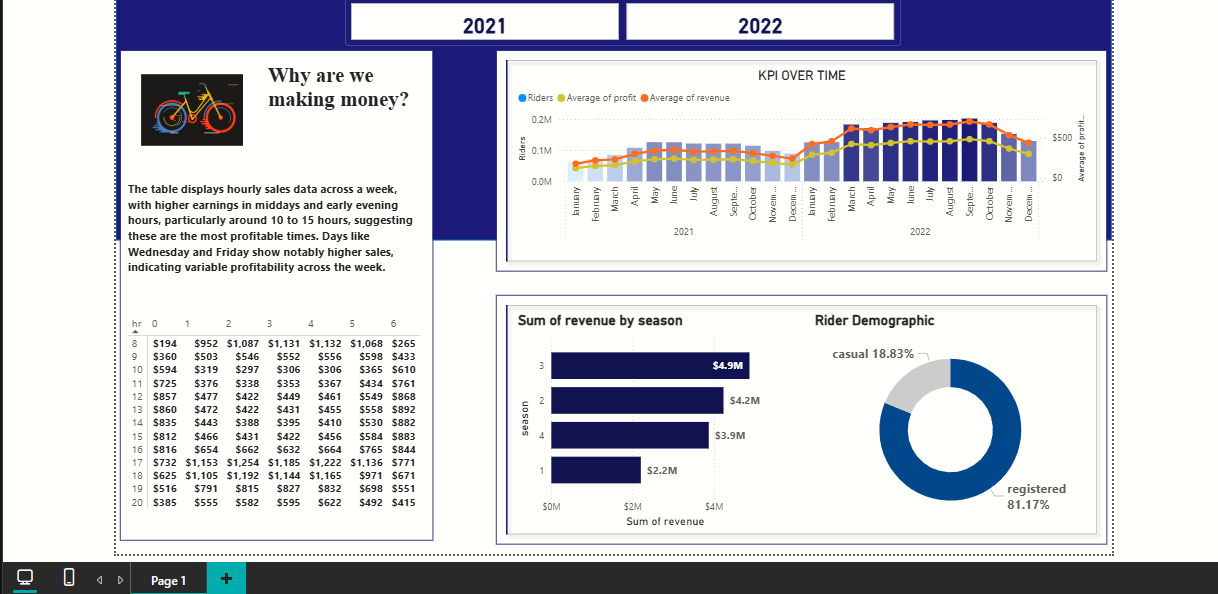

The page's visual inventory and layout, read from the dashboard file:
{"tool":"powerbi","page":{"name":"Page 1","canvas":[1280,720],"ordinal":0},"visuals":[{"type":"shape","box":[0,0,1280,316.7],"z":0},{"type":"cardVisual","fields":{"Data":["Min(Query1.riders)"]},"box":[0,66.7,413.3,641.7],"z":0,"group":"g1"},{"type":"cardVisual","fields":{"Data":["Min(Query1.riders)"]},"box":[10,86.1,180,128.3],"z":1000,"group":"g1"},{"type":"cardVisual","fields":{"Data":["Min(Query1.riders)"]},"box":[483.3,66.7,796.7,295],"z":1000},{"type":"textbox","box":[10,235.3,390.3,139.4],"z":2000,"group":"g1"},{"type":"cardVisual","fields":{"Data":["Min(Query1.riders)"]},"box":[483.3,381.7,796.7,331.7],"z":2000},{"type":"group","id":"g1","title":"Group 1","box":[0,66.7,413.3,641.7],"z":3000},{"type":"pivotTable","fields":{"Rows":["Query1.hr"],"Values":["Avg(Query1.revenue)"],"Columns":["Query1.weekday"]},"box":[10,408.3,390,281.7],"z":4000},{"type":"textbox","box":[190,83.3,210,88.3],"z":5000},{"type":"lineClusteredColumnComboChart","title":"KPI OVER TIME","fields":{"Y":["Sum(Query1.riders)"],"Category":["Query1.dteday.Variation.Date Hierarchy.Year","Query1.dteday.Variation.Date Hierarchy.Month","Query1.dteday.Variation.Date Hierarchy.Day"],"Y2":["Avg(Query1.profit)","Avg(Query1.revenue)"]},"box":[511.7,95,740,241.7],"z":6000},{"type":"clusteredBarChart","fields":{"Category":["Query1.season"],"Y":["Sum(Query1.revenue)"]},"box":[511.7,408.3,358.3,281.7],"z":7000},{"type":"donutChart","title":"Rider Demographic","fields":{"Category":["Query1.rider_type"],"Y":["Sum(Query1.riders)"]},"box":[893.3,408.3,358.3,281.7],"z":8000},{"type":"advancedSlicerVisual","fields":{"Values":["Query1.year"]},"box":[295,3.3,715,63.3],"z":9000}]}

Visuals, with their boxes in screenshot pixels (x1, y1, x2, y2):
shape: crop(111, 0, 1114, 245)
cardVisual - Min(Query1.riders): crop(111, 49, 435, 552)
cardVisual - Min(Query1.riders): crop(119, 64, 260, 165)
cardVisual - Min(Query1.riders): crop(490, 49, 1114, 280)
textbox: crop(119, 181, 425, 291)
cardVisual - Min(Query1.riders): crop(490, 296, 1114, 556)
"Group 1" group: crop(111, 49, 435, 552)
pivotTable - Query1.hr x Avg(Query1.revenue): crop(119, 317, 424, 538)
textbox: crop(260, 62, 424, 131)
"KPI OVER TIME" lineClusteredColumnComboChart: crop(512, 71, 1092, 261)
clusteredBarChart - Query1.season x Sum(Query1.revenue): crop(512, 317, 793, 538)
"Rider Demographic" donutChart: crop(811, 317, 1092, 538)
advancedSlicerVisual - Query1.year: crop(342, 0, 902, 49)
